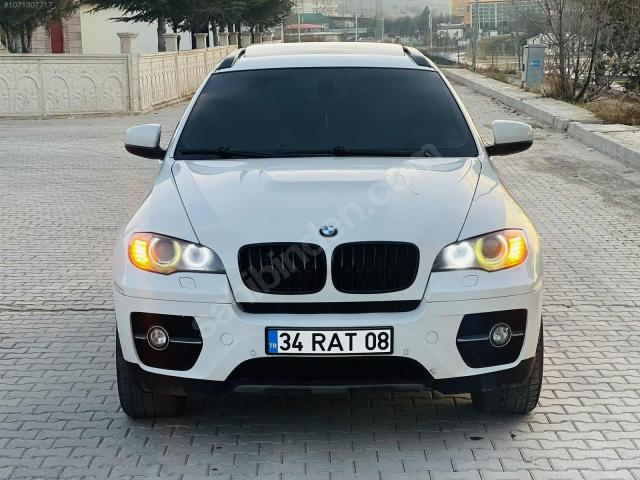plaka: (266, 328, 393, 354)
